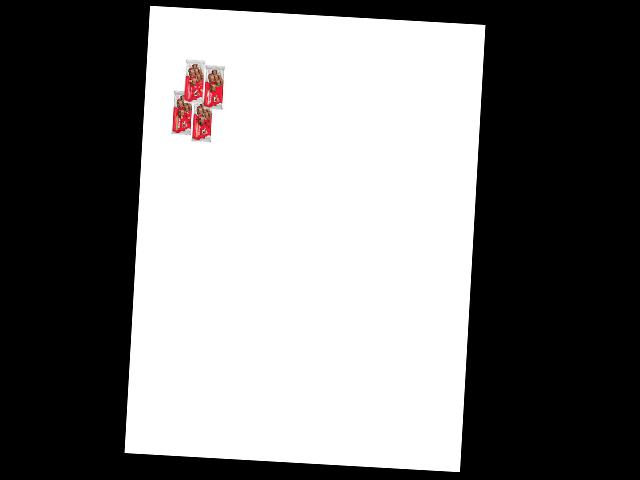chocolate: (169, 87, 197, 139)
